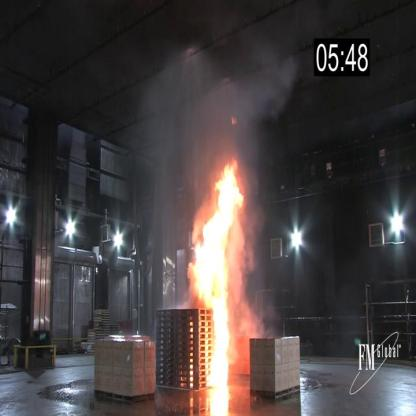fire: (188, 160, 246, 394)
